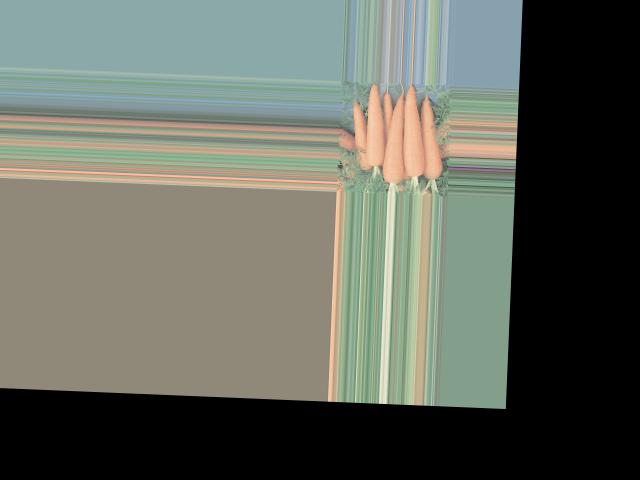carrot: (359, 86, 388, 171)
